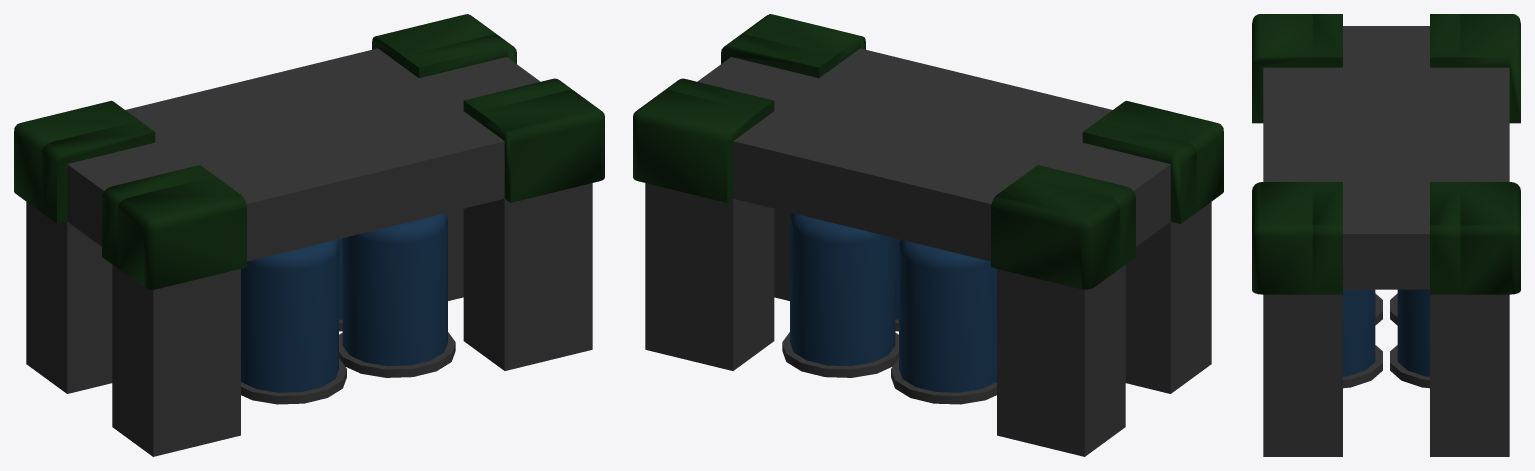
Rendered from generator.fbx.
3 views of the same model, side by side, from view 1: azimuth 30°, elevation 25°; view 2: azimuth 150°, elevation 25°; view 3: azimuth 270°, elevation 25° (orthographic). The views are drawn at different scales.
Parts seen in each view (by area): view 1: merge3; view 2: merge3; view 3: merge3.
Part boxes in pixels (x1,y1,x2,y2): merge3: (14, 14, 604, 456); merge3: (633, 14, 1223, 456); merge3: (1252, 14, 1520, 456).
Bounding box in the file's own units: 2.09 × 1.05 × 1.09.
